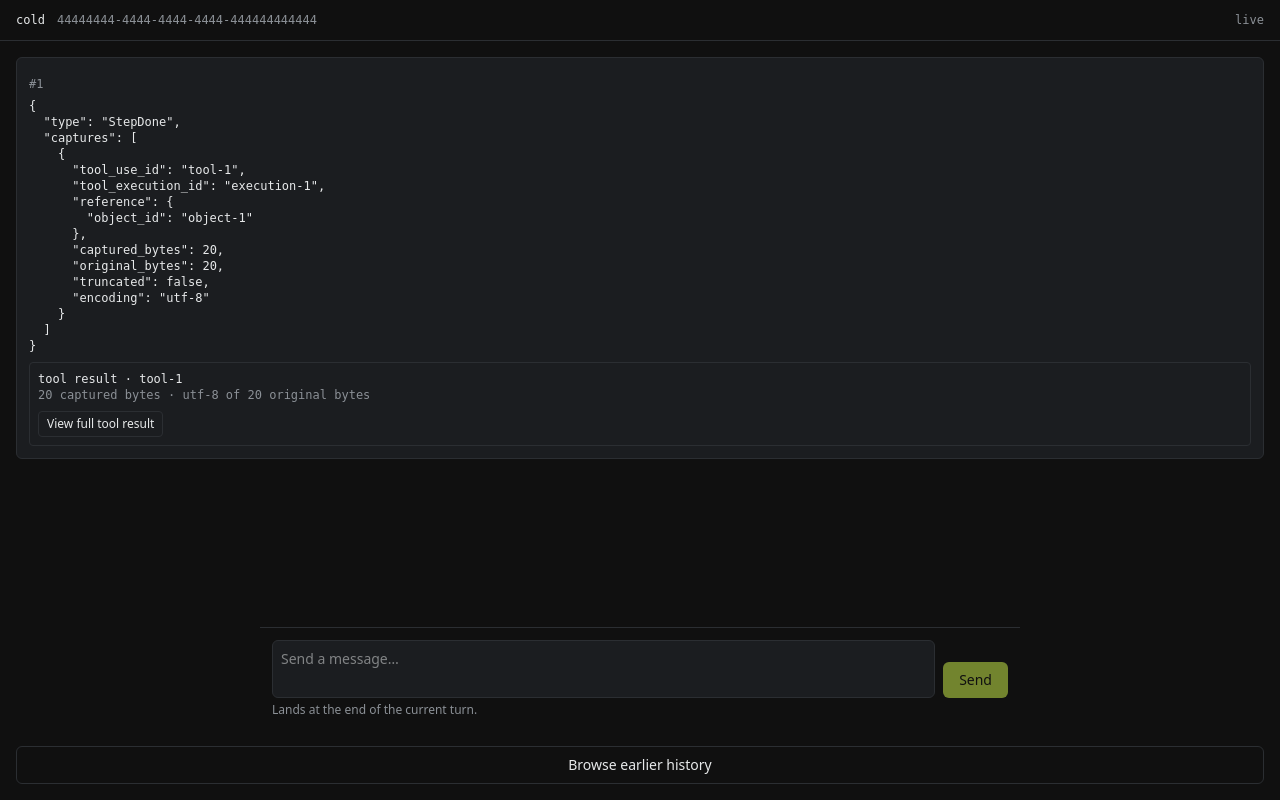
Scenario: a session with no Host renders its durable projection and its retained capture bytes
Expected: the text with test id "detail-durable-state" reads "cold", [16,13,45,27]
Step 1. Click the button with test id "tool-capture-load" → [101, 424], box [38,411,163,437]
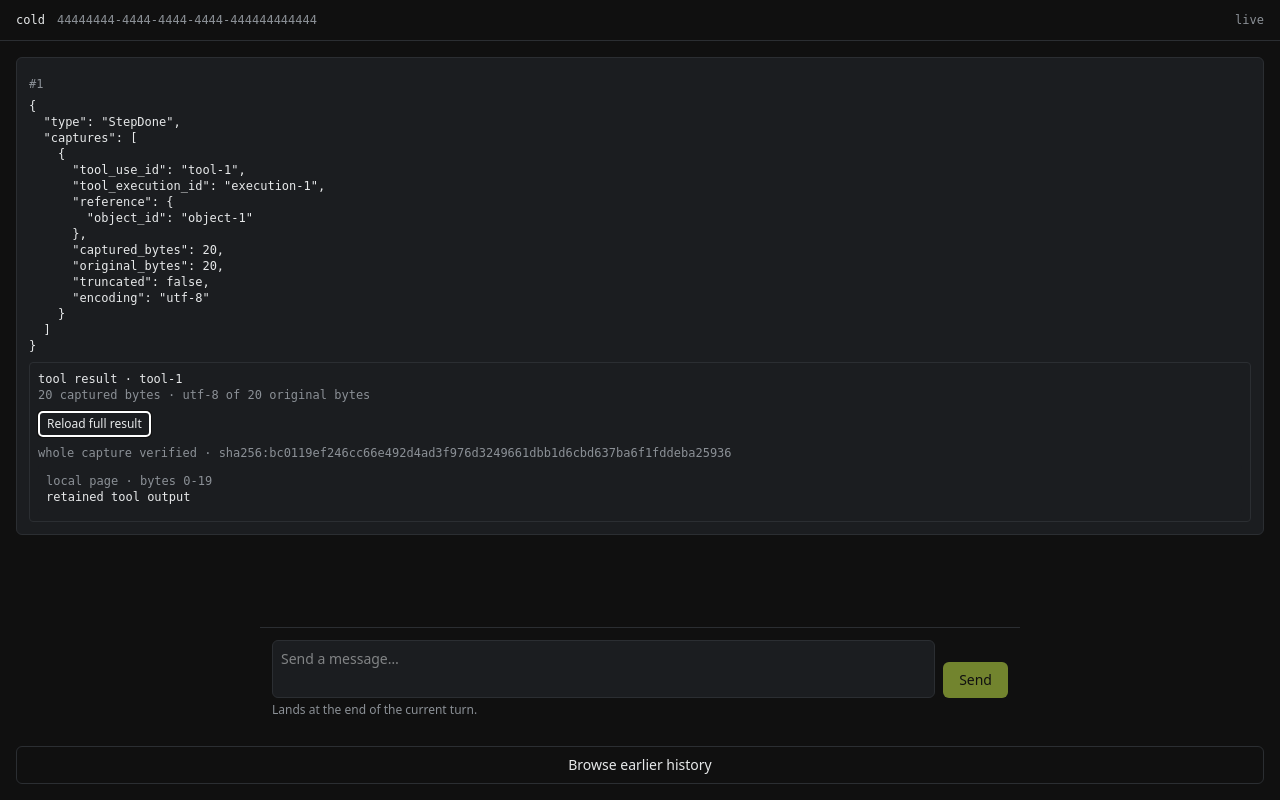
Result: the element with test id "tool-capture-output" shows "retained tool output" at [46,490,190,504]
Result: the text with test id "tool-capture-verified" shows "whole capture verified" at [38,446,219,460]
